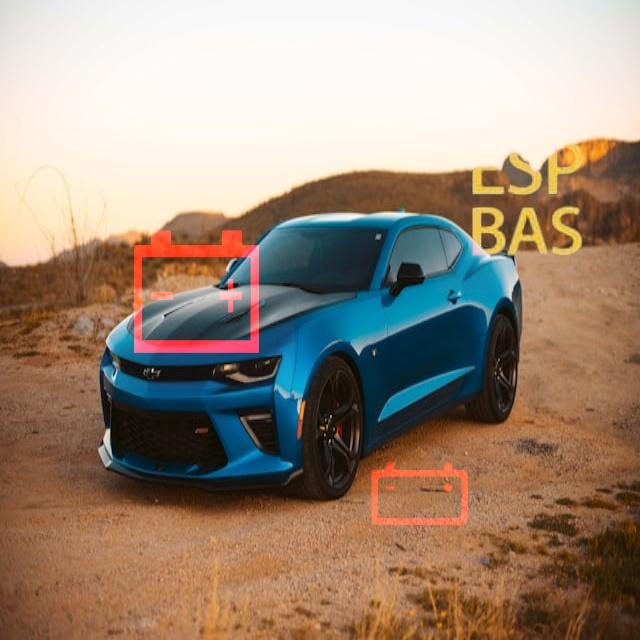symbol: (95, 190, 294, 389), (435, 107, 621, 293), (341, 417, 496, 572)
